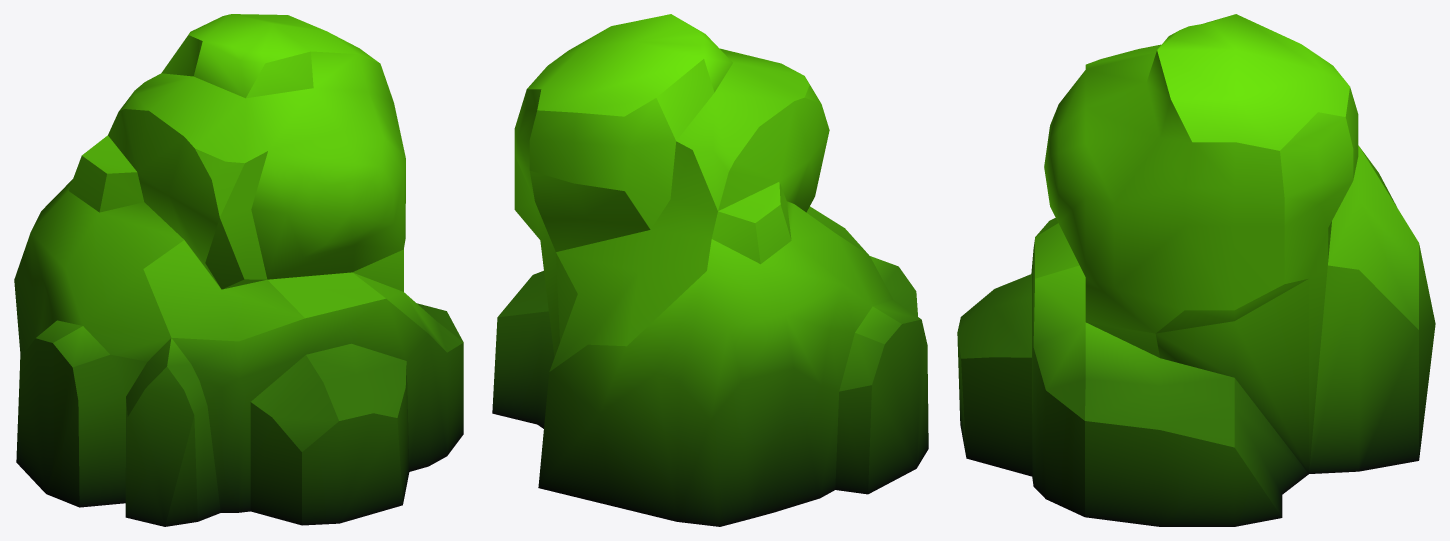
The model's file is FOL_Foliage_07.FBX.
3 renders of one model, left to right at view 1: azimuth 30°, elevation 25°; view 2: azimuth 150°, elevation 25°; view 3: azimuth 270°, elevation 25°, orthographic. The views are drawn at different scales.
Parts seen in each view (by area): view 1: FOL_Foliage_07; view 2: FOL_Foliage_07; view 3: FOL_Foliage_07.
Part boxes in pixels (box(x1,y1,x2,y2)): FOL_Foliage_07: box(14, 14, 463, 526); FOL_Foliage_07: box(492, 14, 928, 526); FOL_Foliage_07: box(957, 14, 1435, 526).
Size of the model in its own units: 0.1744 by 0.1642 by 0.1739.
